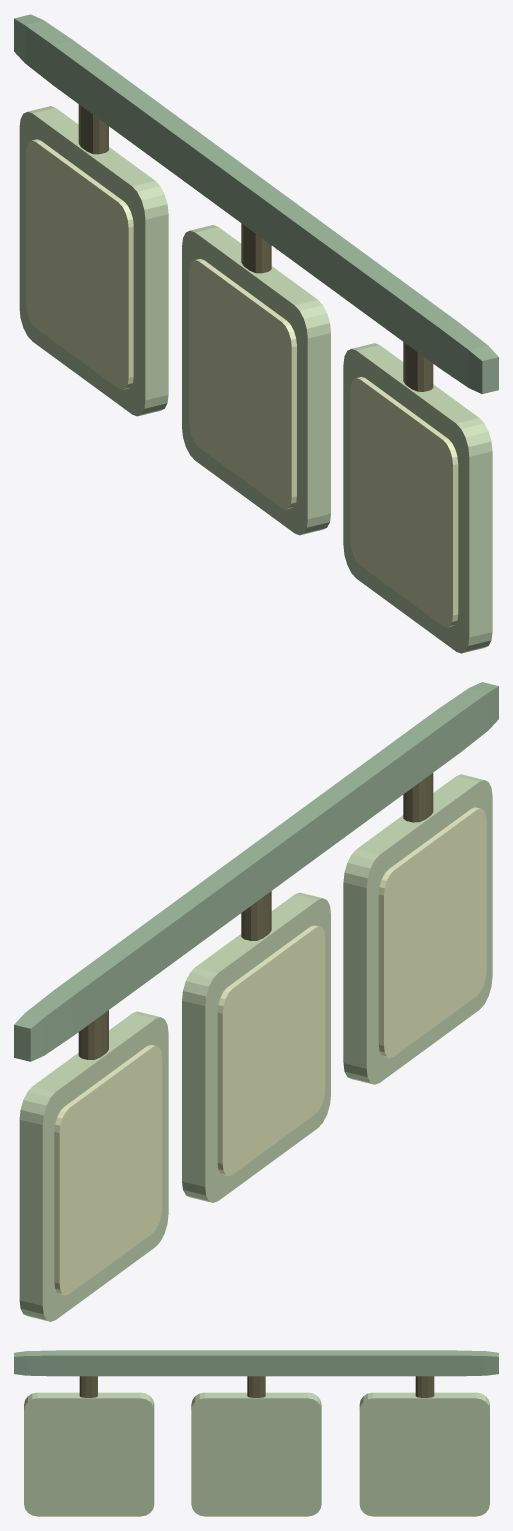
The model's file is Sign.fbx.
3 views of the same model, one above another, from view 1: azimuth 30°, elevation 25°; view 2: azimuth 150°, elevation 25°; view 3: azimuth 270°, elevation 25° (orthographic). The views are drawn at different scales.
Visible parts, largest first — view 1: Cube, Cube.010, Cube.008, Cube.007, Cube.006, Cube.005, Cube.004, Cube.002, Cube.001, Cube.003; view 2: Cube, Cube.010, Cube.007, Cube.008, Cube.006, Cube.005, Cube.004, Cube.003, Cube.001, Cube.002; view 3: Cube.004, Cube.005, Cube.006, Cube, Cube.002, Cube.001, Cube.003.
Boxes of the visible parts, x1=… form: Cube: x1=14, y1=14, x2=498, y2=394; Cube.010: x1=350, y1=376, x2=458, y2=627; Cube.008: x1=189, y1=258, x2=296, y2=509; Cube.007: x1=26, y1=139, x2=133, y2=389; Cube.006: x1=343, y1=343, x2=492, y2=653; Cube.005: x1=19, y1=106, x2=168, y2=416; Cube.004: x1=182, y1=225, x2=330, y2=535; Cube.002: x1=78, y1=104, x2=108, y2=154; Cube.001: x1=241, y1=223, x2=271, y2=273; Cube.003: x1=403, y1=342, x2=433, y2=391; Cube: x1=14, y1=682, x2=498, y2=1061; Cube.010: x1=378, y1=807, x2=486, y2=1057; Cube.007: x1=54, y1=1045, x2=162, y2=1295; Cube.008: x1=217, y1=925, x2=325, y2=1175; Cube.006: x1=343, y1=774, x2=492, y2=1084; Cube.005: x1=19, y1=1011, x2=168, y2=1321; Cube.004: x1=182, y1=892, x2=330, y2=1202; Cube.003: x1=403, y1=773, x2=433, y2=822; Cube.001: x1=241, y1=891, x2=271, y2=940; Cube.002: x1=78, y1=1010, x2=108, y2=1059; Cube.004: x1=191, y1=1392, x2=321, y2=1516; Cube.005: x1=359, y1=1392, x2=489, y2=1516; Cube.006: x1=24, y1=1392, x2=154, y2=1516; Cube: x1=14, y1=1350, x2=498, y2=1376; Cube.002: x1=415, y1=1376, x2=434, y2=1397; Cube.001: x1=247, y1=1376, x2=265, y2=1397; Cube.003: x1=79, y1=1376, x2=97, y2=1397.
Bounding box in the file's own units: 70.34 × 733 × 2006.
